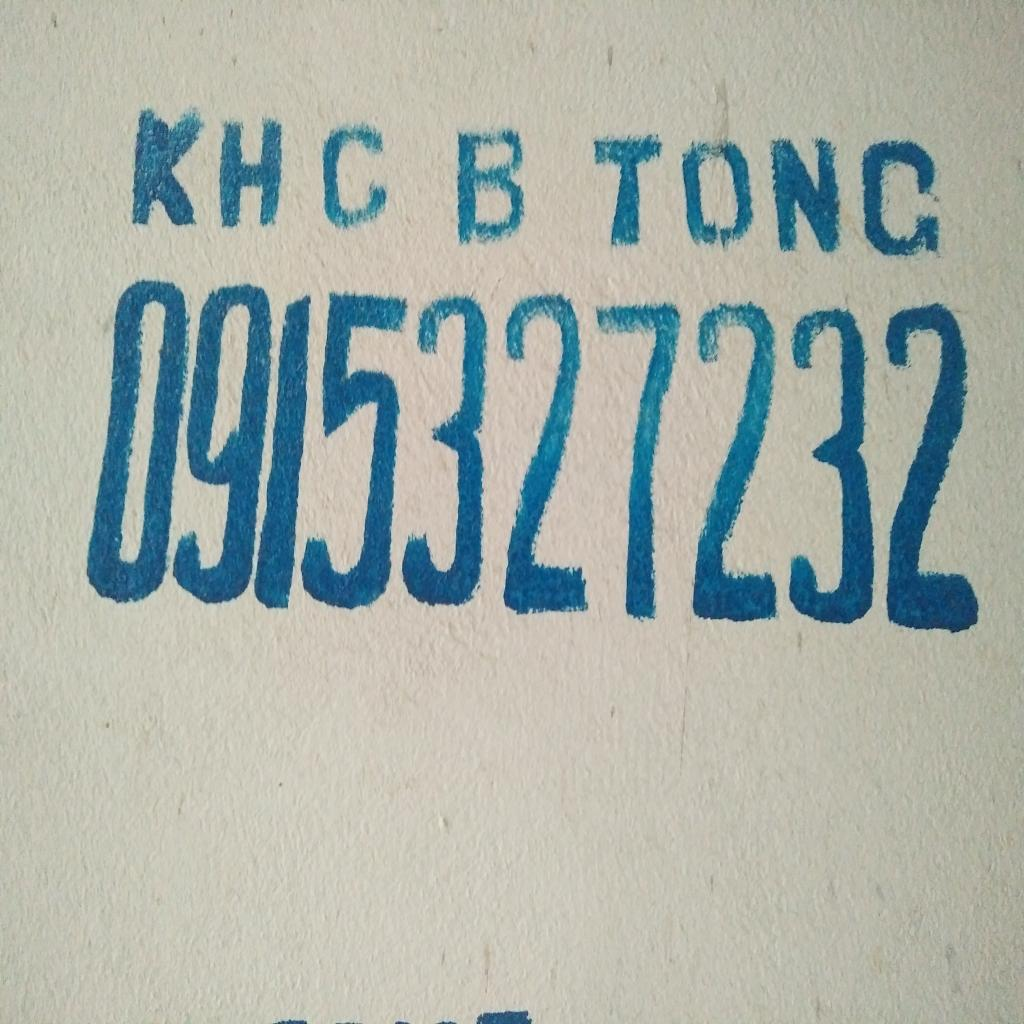text: (584, 124, 945, 269), (122, 92, 293, 236), (441, 118, 530, 252), (316, 112, 396, 235)
